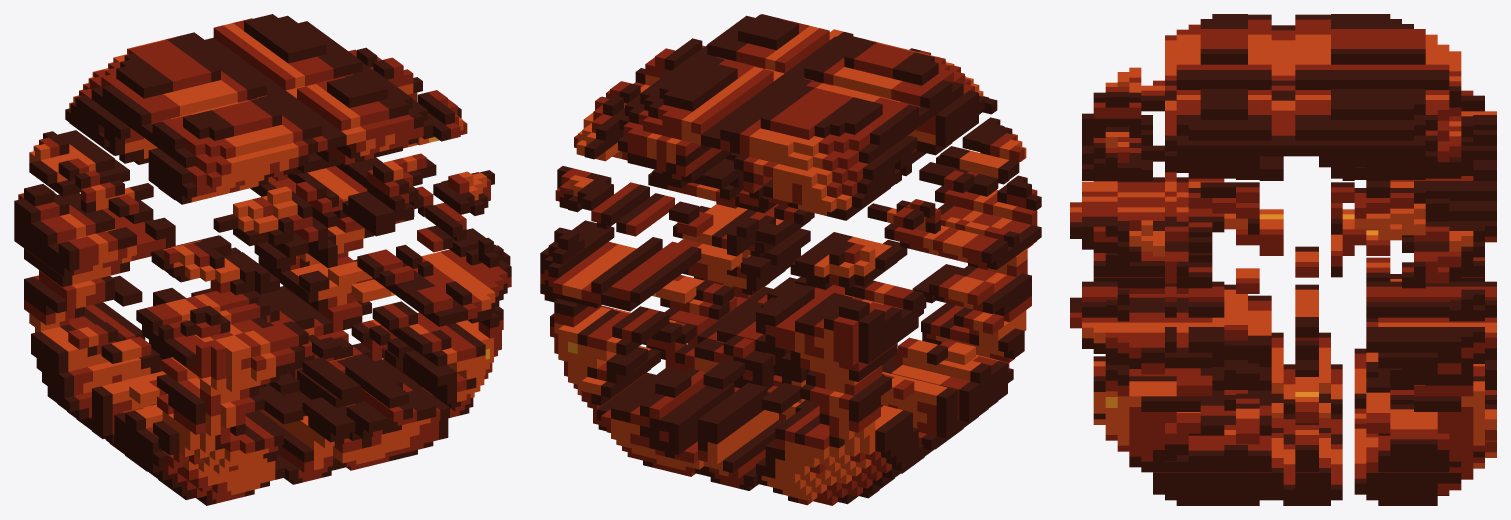
The model's file is explosion_03.obj.
The picture shows the model from 3 angles, left to right: view 1: azimuth 30°, elevation 25°; view 2: azimuth 150°, elevation 25°; view 3: azimuth 270°, elevation 25°; orthographic projection. The views are drawn at different scales.
Visible parts, largest first — view 1: m_ember, m_darkred, m_red; view 2: m_ember, m_darkred, m_red; view 3: m_ember, m_darkred, m_red, m_orange.
Part boxes in pixels (<box>): m_ember: <box>14,14,511,505</box>; m_darkred: <box>18,18,511,503</box>; m_red: <box>29,23,495,495</box>; m_ember: <box>540,14,1041,504</box>; m_darkred: <box>540,18,1037,505</box>; m_red: <box>554,26,1033,501</box>; m_ember: <box>1070,14,1496,505</box>; m_darkred: <box>1070,19,1496,495</box>; m_red: <box>1070,34,1496,468</box>; m_orange: <box>1105,214,1378,407</box>.
Size of the model in its own units: 36 by 36 by 36.
